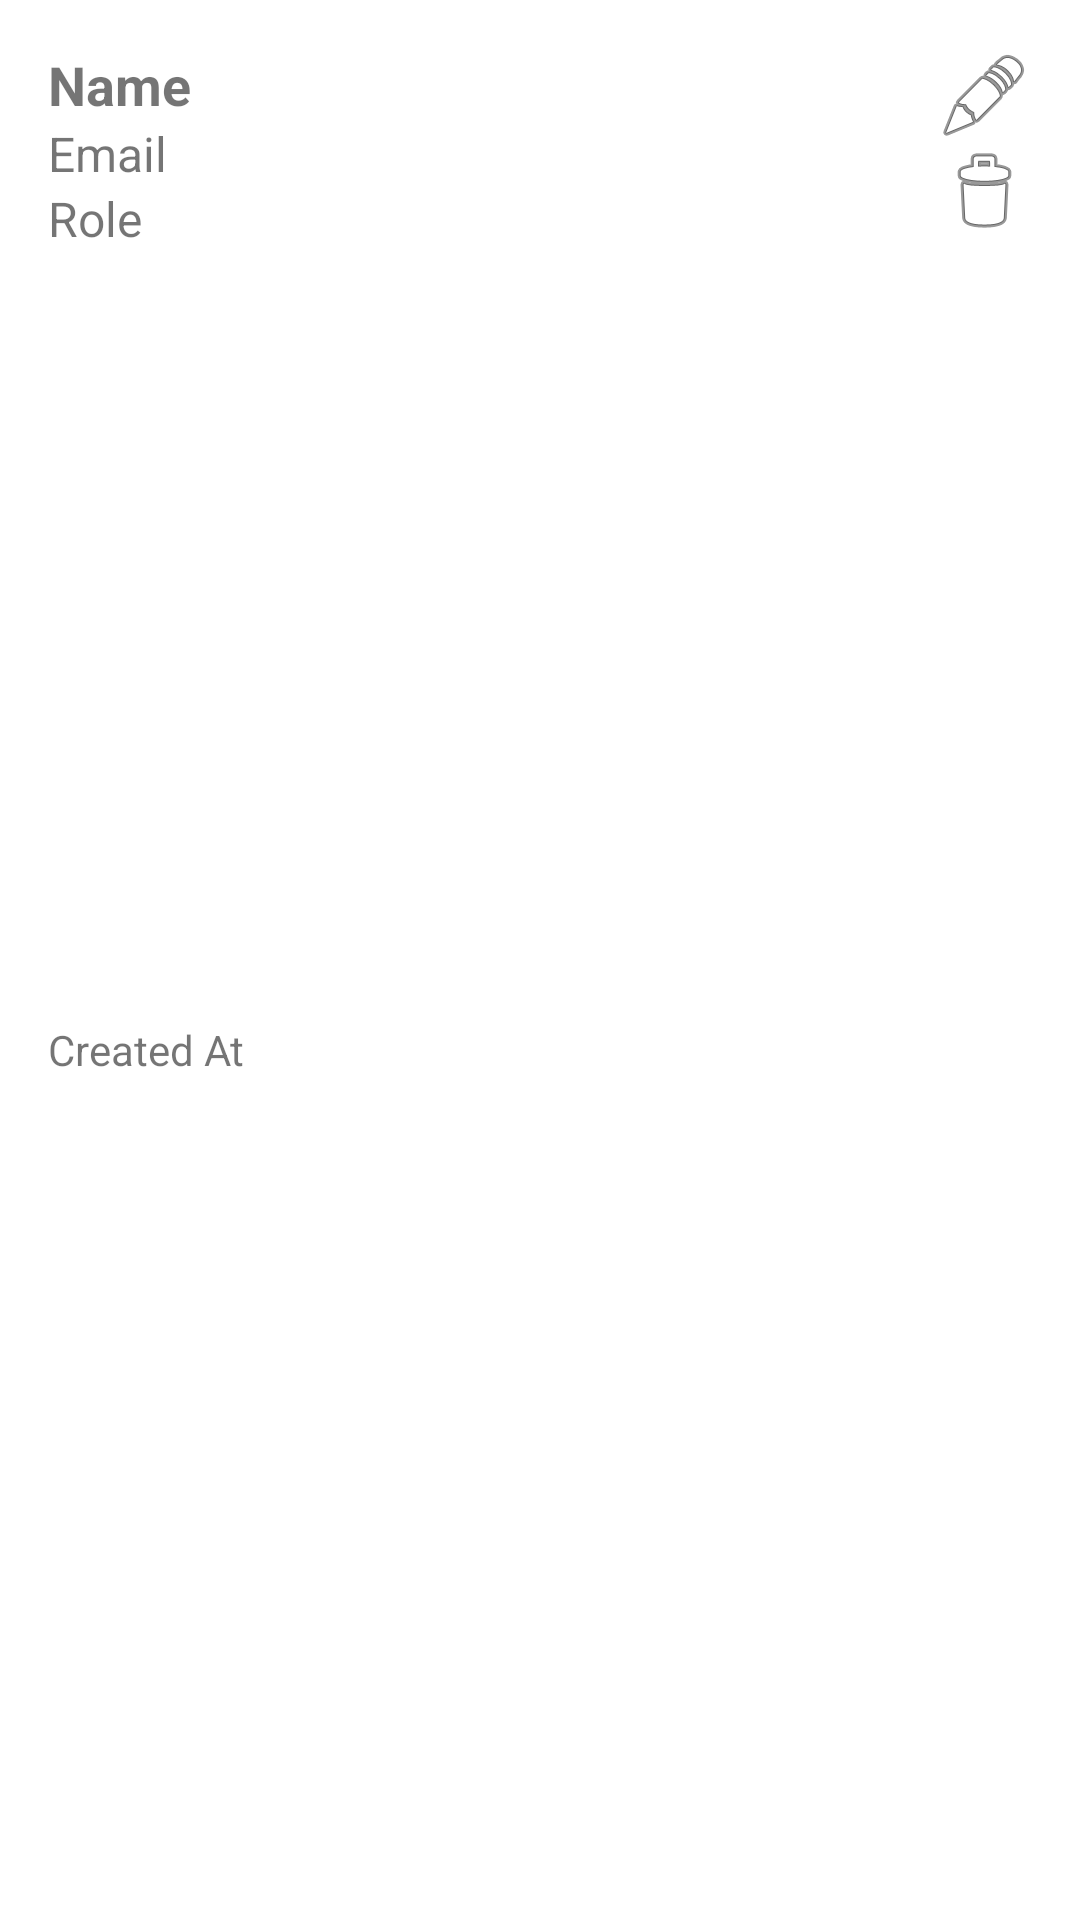

Locate icon controls on the screen. Image size 1080 x 1920, boxes as (x1, y1, x2, y2).
Delete: (957, 153, 1012, 228)
Edit: (943, 55, 1024, 136)
